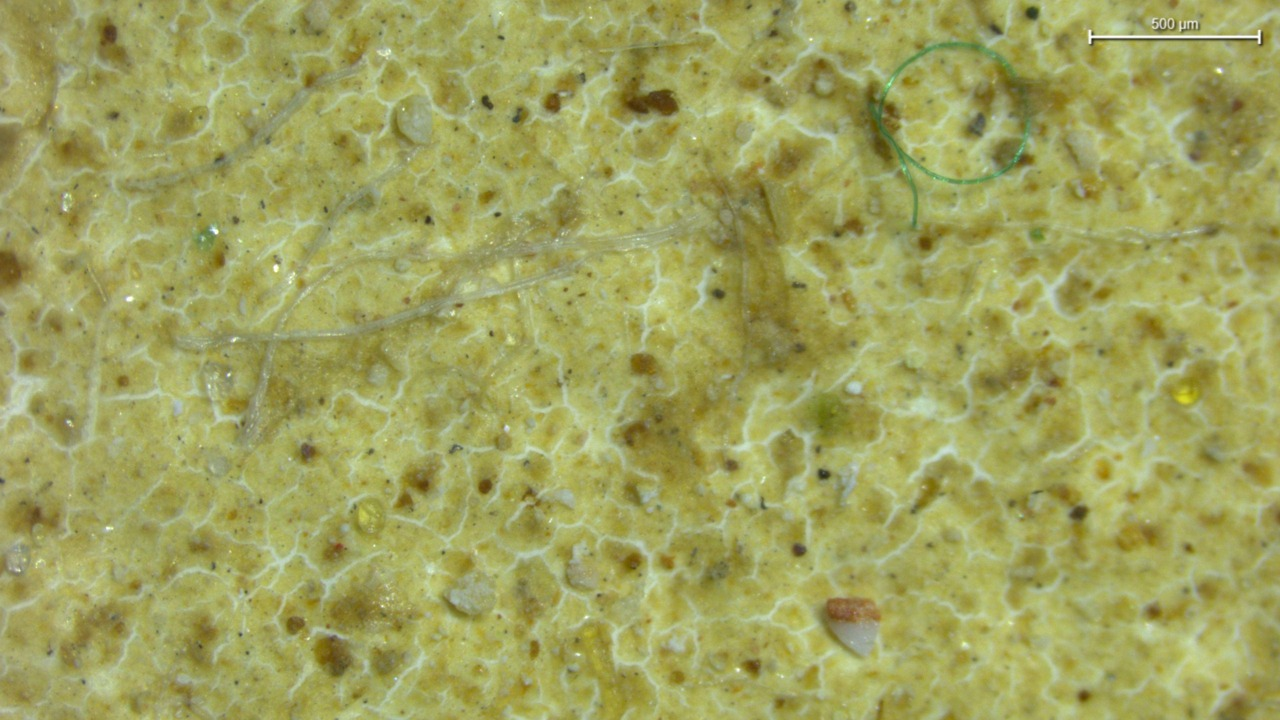microplastic_fragment: (825, 598, 880, 656), (446, 571, 495, 615), (392, 94, 432, 144)
